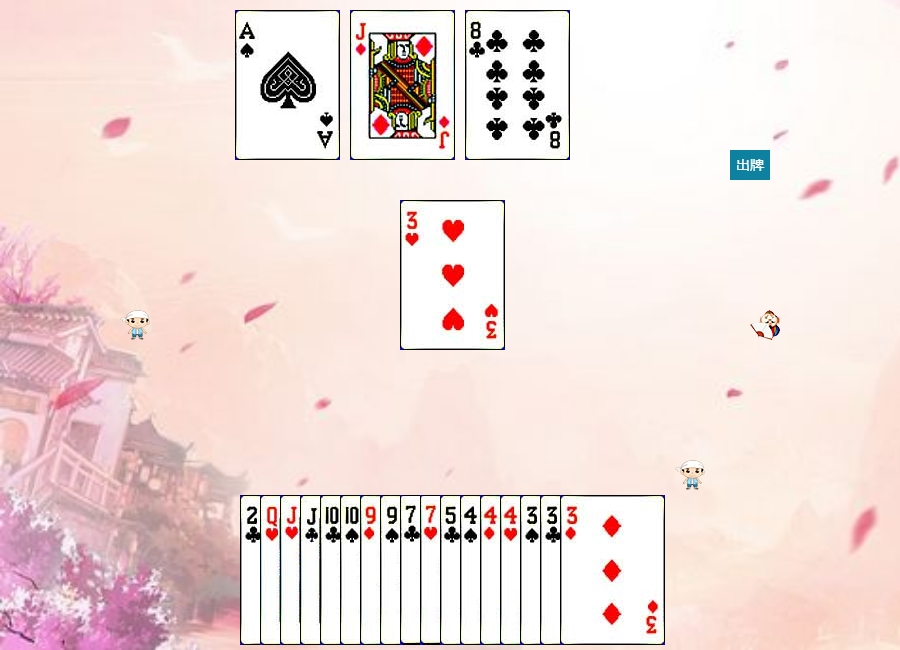10~2: (320, 495, 425, 645)
10~4: (340, 495, 445, 645)
11~1: (350, 10, 455, 160)
11~2: (300, 495, 405, 645)
11~3: (280, 495, 385, 645)
12~3: (260, 495, 365, 645)
14~4: (235, 10, 340, 160)
15~2: (240, 495, 345, 645)
3~1: (560, 495, 665, 645)
3~2: (540, 495, 645, 645)
3~3: (400, 200, 505, 350)
3~4: (520, 495, 625, 645)
4~1: (480, 495, 585, 645)
4~3: (500, 495, 605, 645)
4~4: (460, 495, 565, 645)
5~2: (440, 495, 545, 645)
7~2: (400, 495, 505, 645)
7~3: (420, 495, 525, 645)
8~2: (465, 10, 570, 160)
9~1: (360, 495, 465, 645)
9~4: (380, 495, 485, 645)
